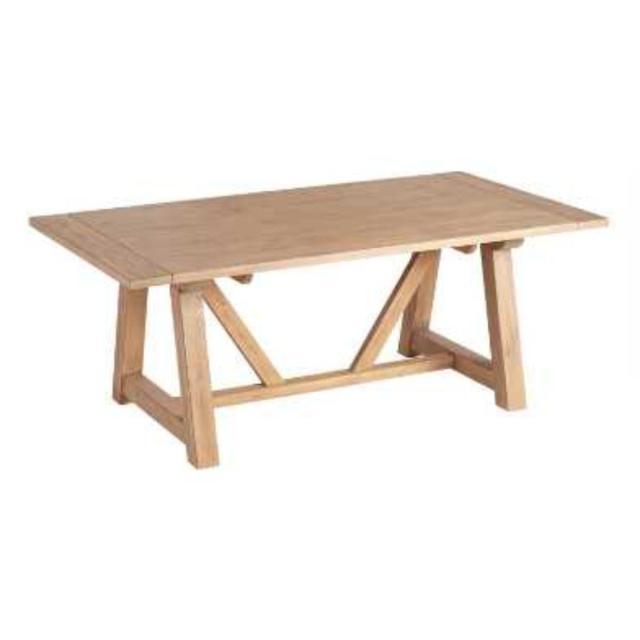table: (11, 148, 624, 519)
